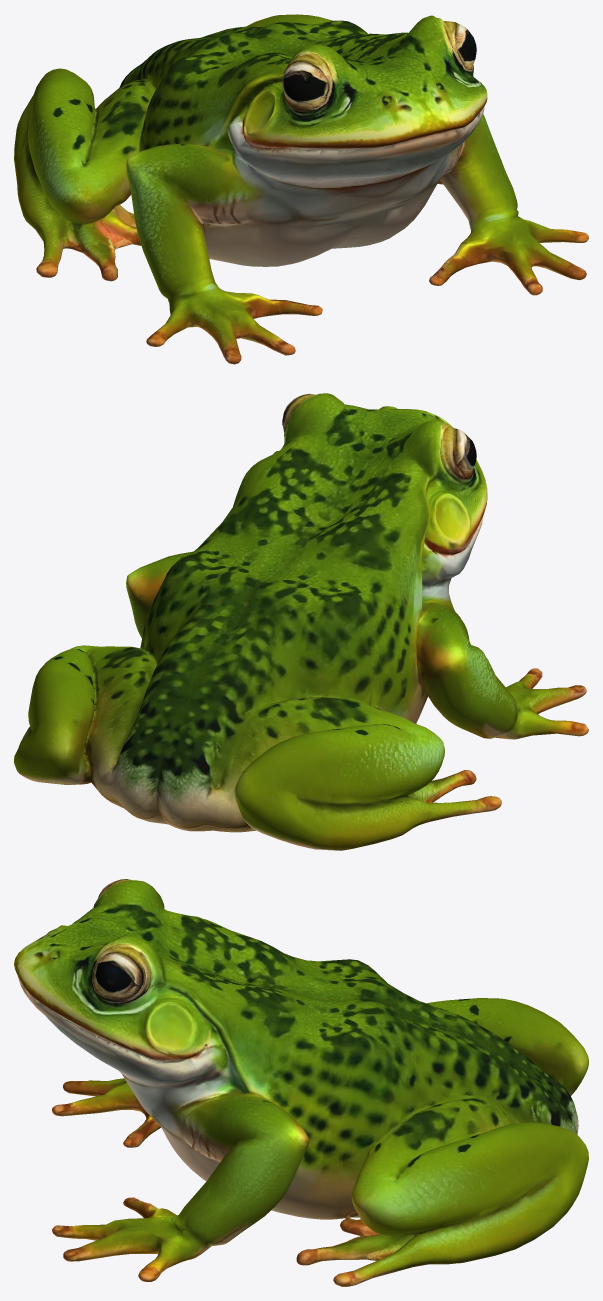
Rendered from animal-heikikker-frog.glb.
3 views of the same model, one above another, from view 1: azimuth 30°, elevation 25°; view 2: azimuth 150°, elevation 25°; view 3: azimuth 270°, elevation 25° (orthographic).
Bounding box in the file's own units: 1.78 × 0.9846 × 1.91.
1 material, 1 textured.
